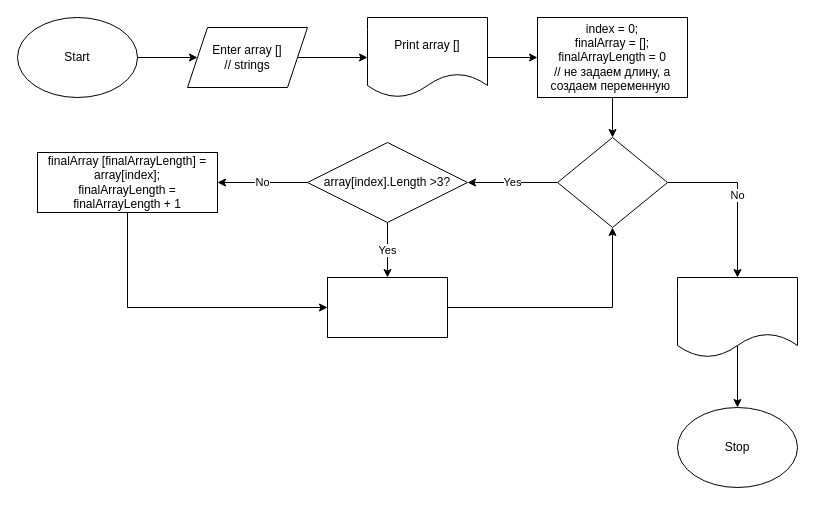
Some shapes in this 815 by 505 pixel diagram are drawn without their labels. The shapes that lost their labels are listed below. From the top down, each one's box as (x1, y1, x2, y2) in pixels, then its label:
(556, 136, 668, 228): index< array.Length?
(326, 276, 448, 338): index = index + 1
(676, 276, 798, 358): Print finalArray []
